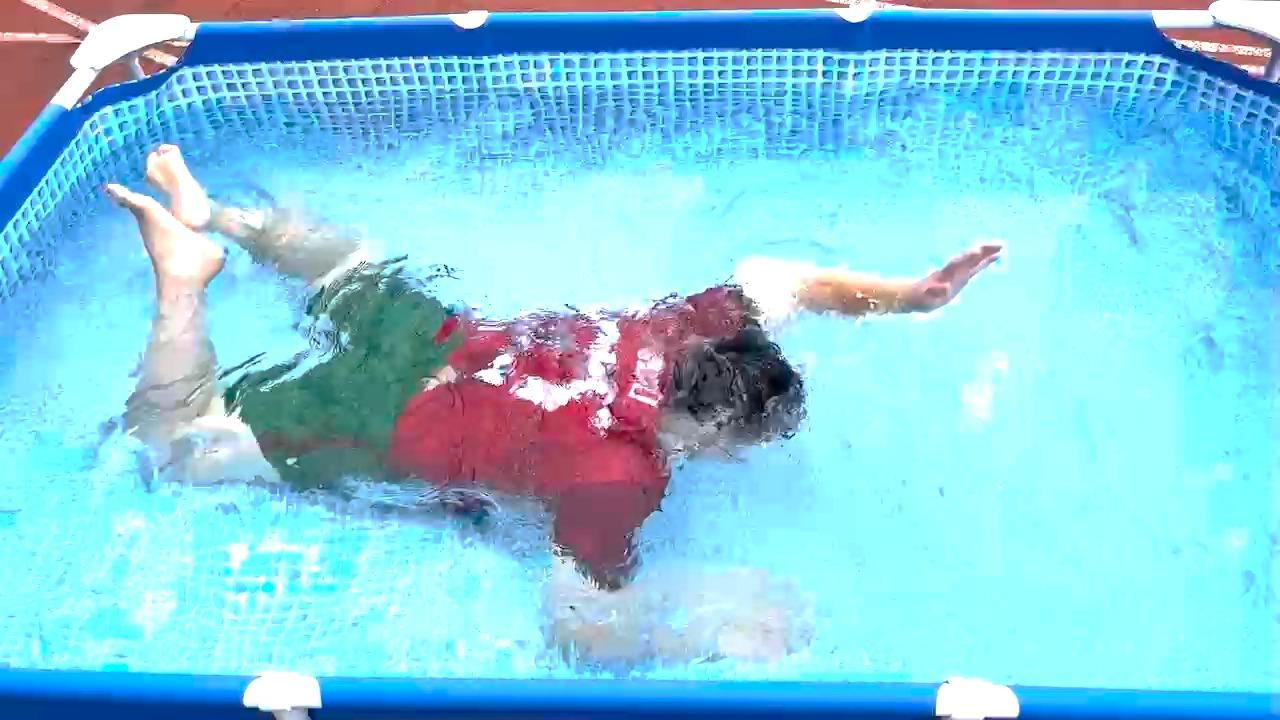Drowning: (49, 173, 1053, 649)
